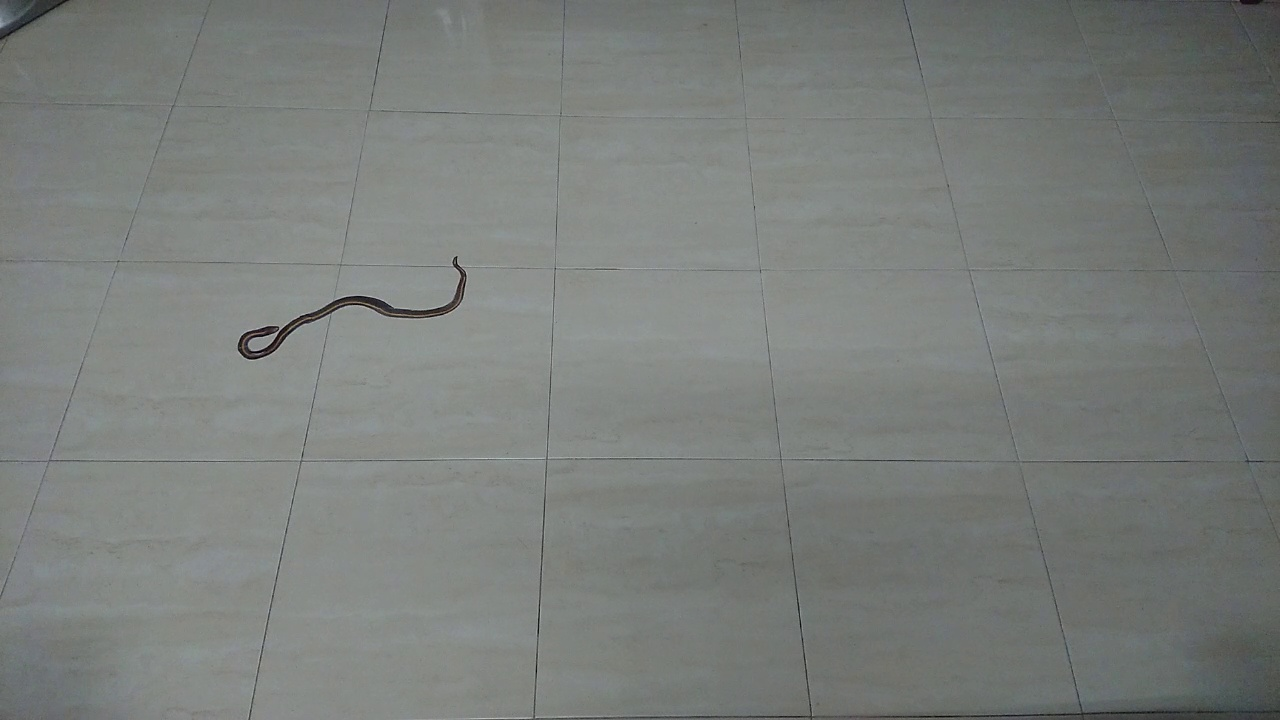snake: (222, 245, 485, 372)
